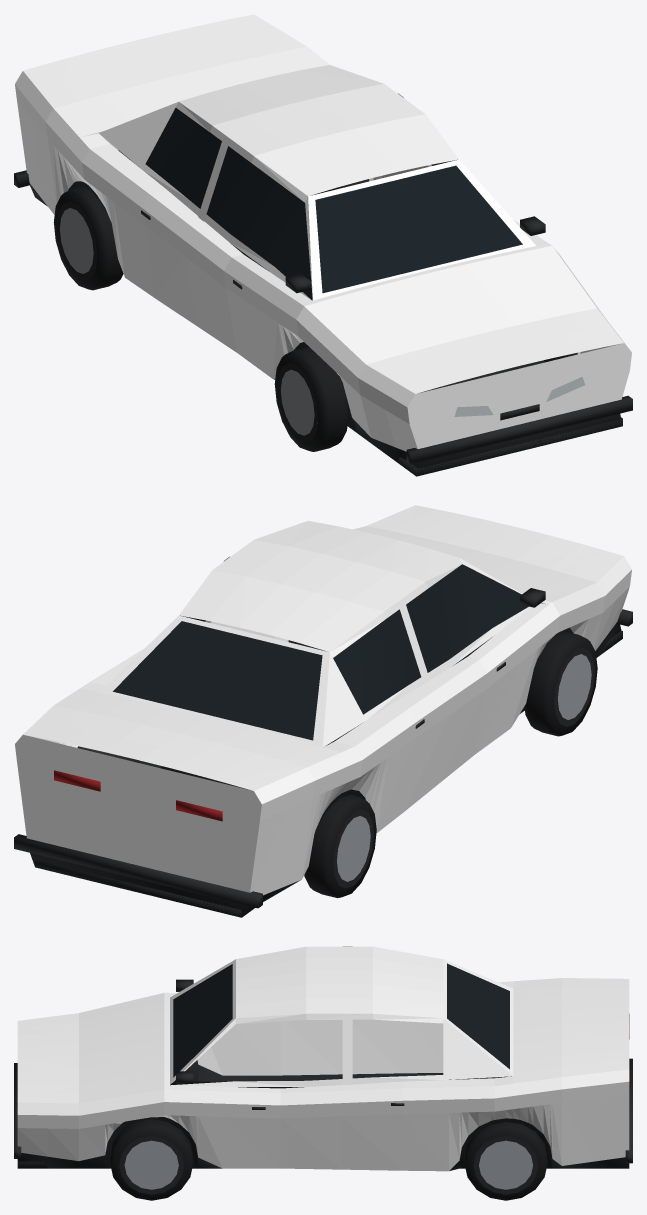
Rendered from hozuki_vigilia.glb.
The picture shows the model from 3 angles, top to bottom: view 1: azimuth 30°, elevation 25°; view 2: azimuth 150°, elevation 25°; view 3: azimuth 270°, elevation 25°; orthographic projection. The views are drawn at different scales.
Parts seen in each view (by area): view 1: Body_Paint, Body_Details, Mount_FrontLeft_Wheel_Details, Mount_RearLeft_Wheel_Details; view 2: Body_Paint, Body_Details, Mount_FrontLeft_Wheel_Details, Mount_RearLeft_Wheel_Details; view 3: Body_Paint, Body_Details, Mount_FrontRight_Wheel_Details, Mount_RearRight_Wheel_Details.
Part boxes in pixels (x1=…): Body_Paint: x1=15, y1=14, x2=631, y2=451; Body_Details: x1=14, y1=108, x2=632, y2=476; Mount_FrontLeft_Wheel_Details: x1=274, y1=346, x2=348, y2=451; Mount_RearLeft_Wheel_Details: x1=53, y1=186, x2=123, y2=290; Body_Paint: x1=15, y1=505, x2=631, y2=895; Body_Details: x1=14, y1=564, x2=632, y2=917; Mount_FrontLeft_Wheel_Details: x1=524, y1=631, x2=597, y2=736; Mount_RearLeft_Wheel_Details: x1=304, y1=794, x2=376, y2=898; Body_Paint: x1=17, y1=946, x2=629, y2=1171; Body_Details: x1=14, y1=963, x2=632, y2=1170; Mount_FrontRight_Wheel_Details: x1=110, y1=1119, x2=193, y2=1200; Mount_RearRight_Wheel_Details: x1=464, y1=1122, x2=547, y2=1200.
Bounding box in the file's own units: 1.93 × 1.4 × 4.59.
2 materials, 1 textured.
